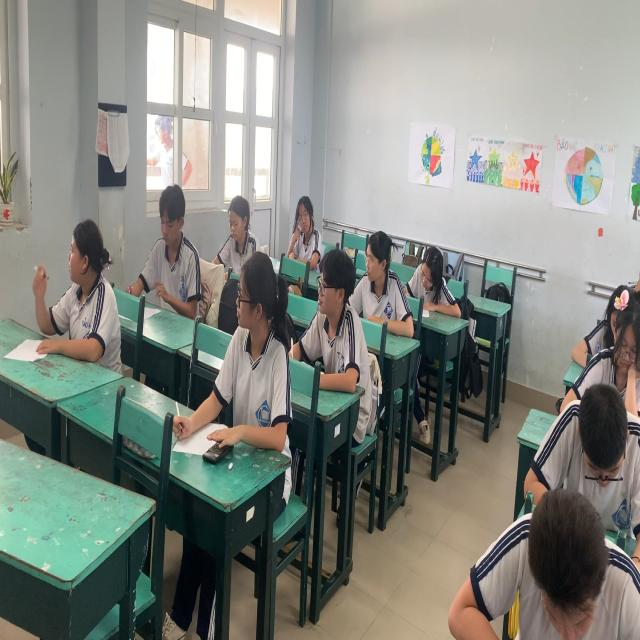cheating: (230, 250, 292, 456), (353, 231, 408, 341)
not_cheating: (464, 485, 640, 640), (44, 218, 124, 382), (561, 383, 640, 518), (300, 245, 364, 400), (142, 183, 200, 325), (592, 284, 640, 413), (405, 217, 461, 321), (215, 188, 261, 270), (284, 180, 320, 274)
